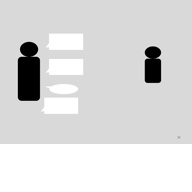left_oneway: (43, 57, 87, 77), (43, 31, 86, 51), (41, 97, 80, 116)
left_speech: (43, 80, 81, 95)
